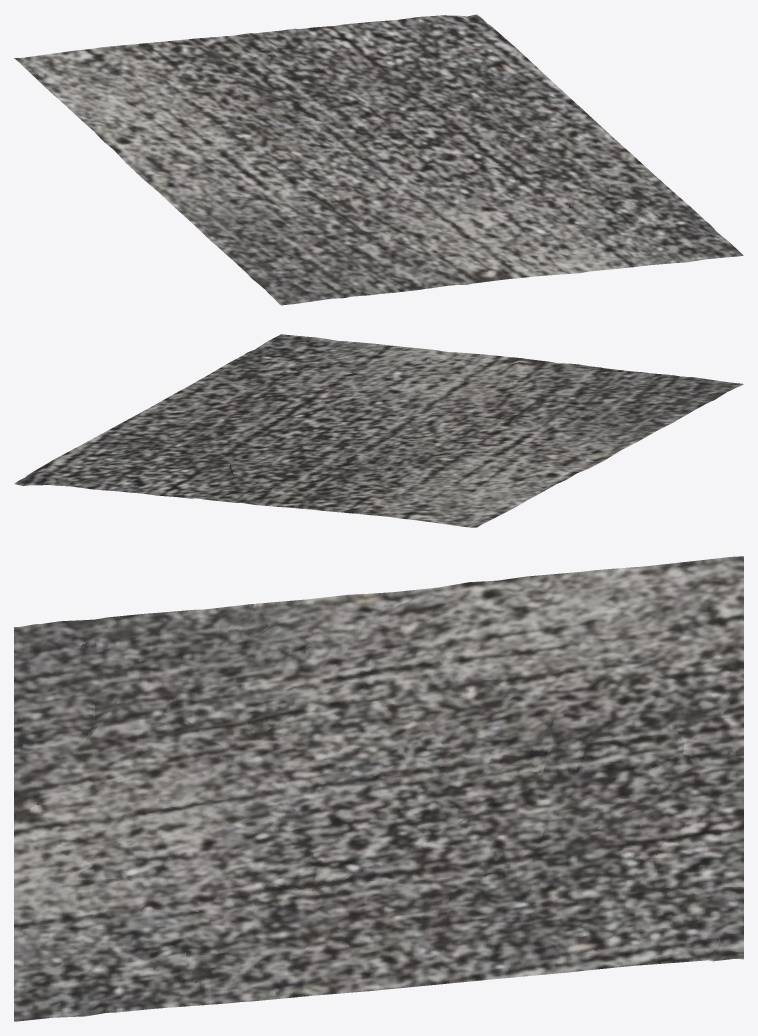
3 renders of one model, top to bottom at view 1: azimuth 30°, elevation 25°; view 2: azimuth 150°, elevation 25°; view 3: azimuth 270°, elevation 25°, orthographic. The views are drawn at different scales.
Bounding box in the file's own units: 0.8373 × 0.1987 × 0.8374.
2 materials, 2 textured.
